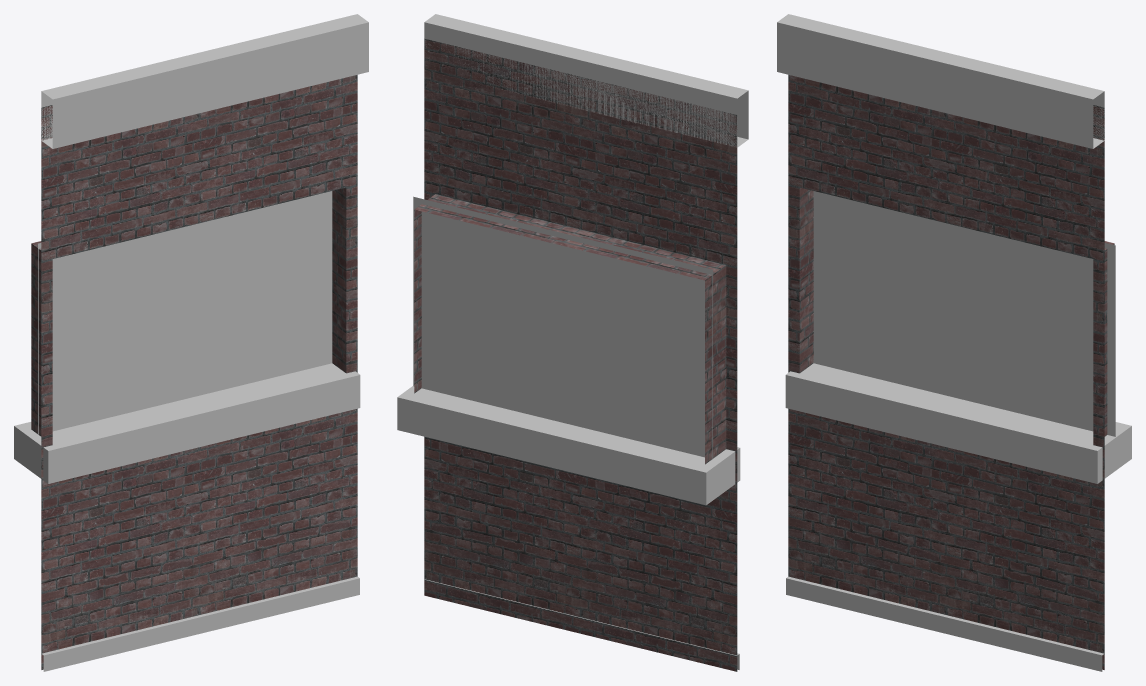
The model's file is Wall_A_Brick_Window_B_2x.FBX.
3 renders of one model, left to right at view 1: azimuth 30°, elevation 25°; view 2: azimuth 150°, elevation 25°; view 3: azimuth 330°, elevation 25°, orthographic.
Parts seen in each view (by area): view 1: Wall_A_Brick_Window_B_2x; view 2: Wall_A_Brick_Window_B_2x; view 3: Wall_A_Brick_Window_B_2x.
Boxes of the visible parts, bbox=[...] form: Wall_A_Brick_Window_B_2x: bbox=[14, 14, 368, 671]; Wall_A_Brick_Window_B_2x: bbox=[397, 14, 748, 671]; Wall_A_Brick_Window_B_2x: bbox=[777, 14, 1131, 671].
Size of the model in its own units: 200 by 350 by 44.71.
